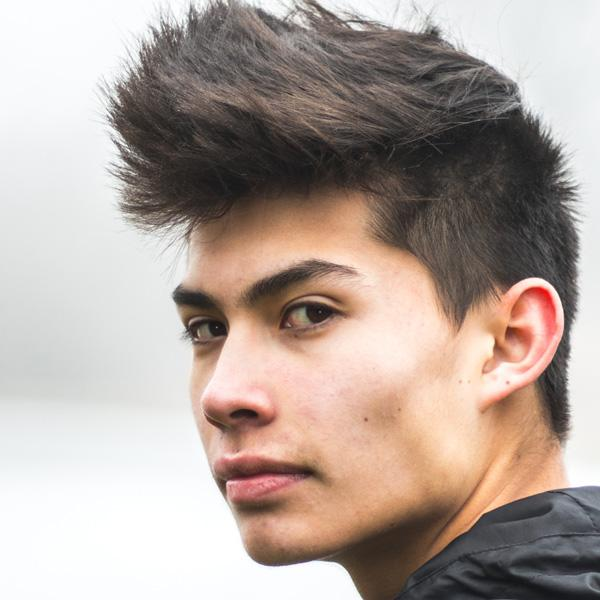Eyes: (270, 286, 355, 349), (180, 303, 236, 358)
